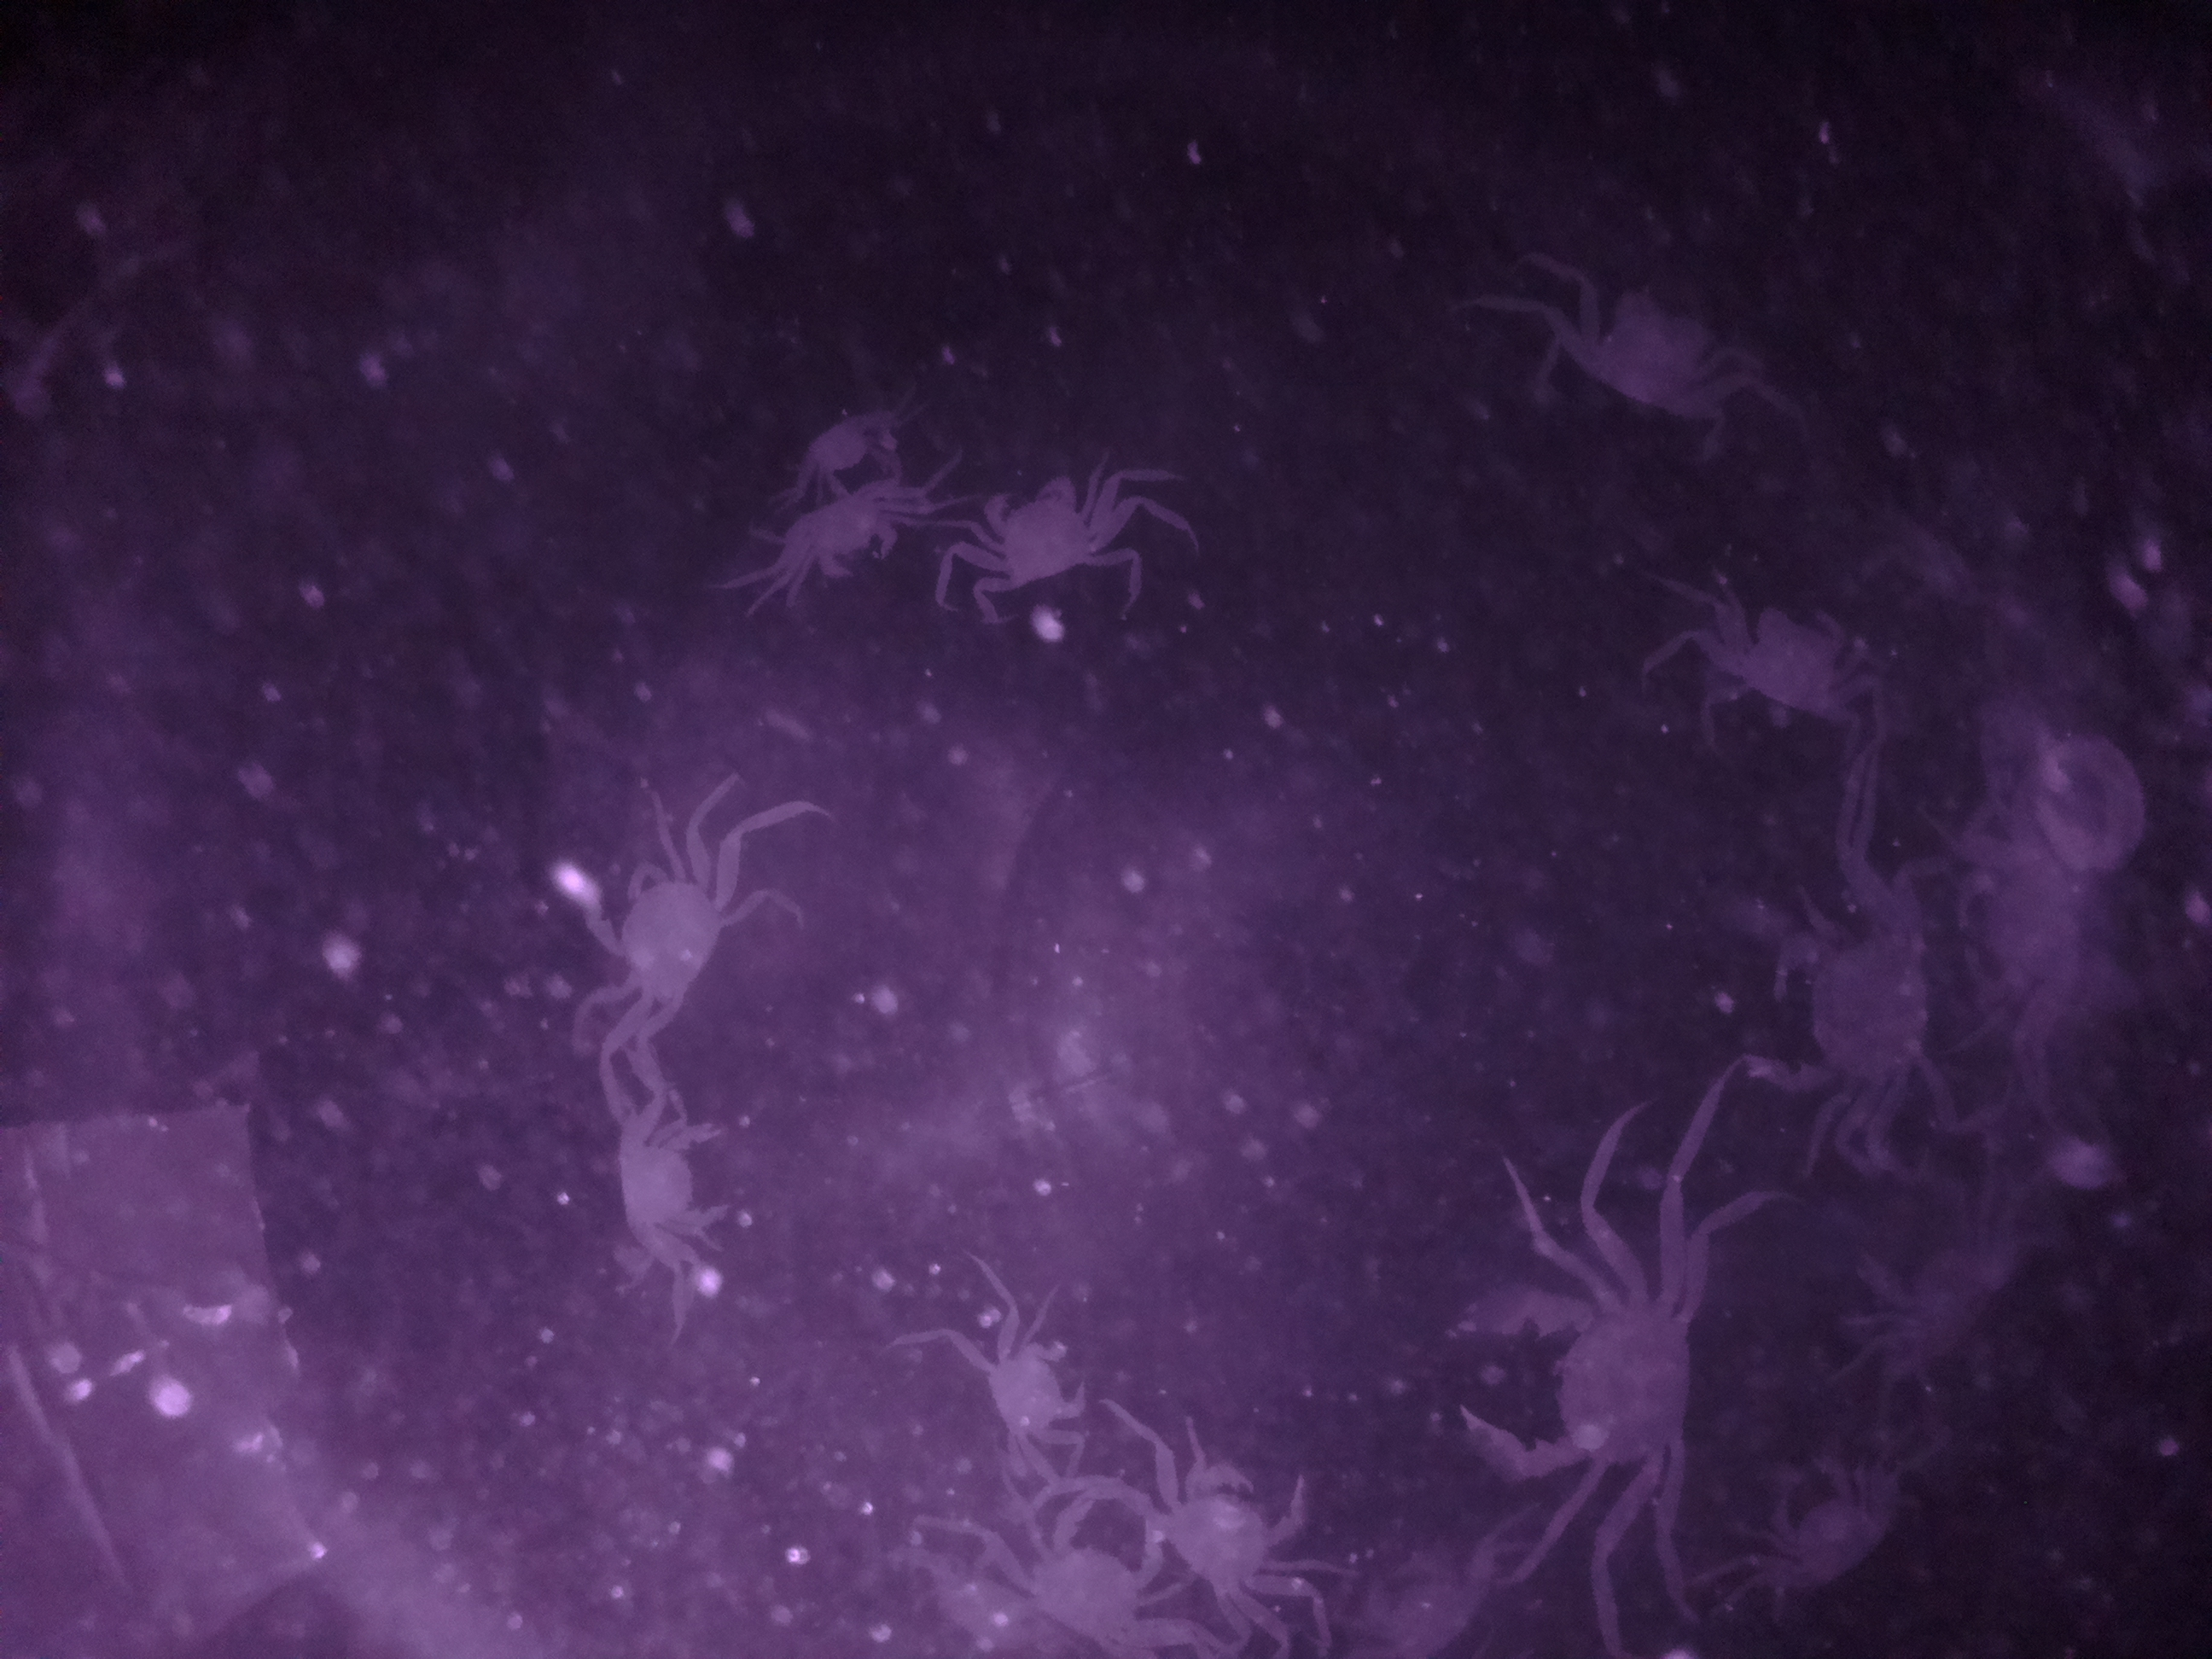Crab: (1437, 1258, 1719, 1513), (1723, 896, 1949, 1126), (564, 840, 751, 1012), (1155, 1432, 1327, 1612), (1552, 281, 1737, 436), (597, 1087, 758, 1263), (946, 455, 1120, 594), (954, 1314, 1096, 1467), (773, 465, 928, 592)
